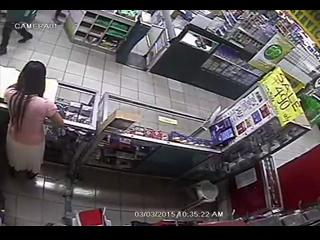Normal: (4, 60, 65, 180), (0, 11, 37, 56)
